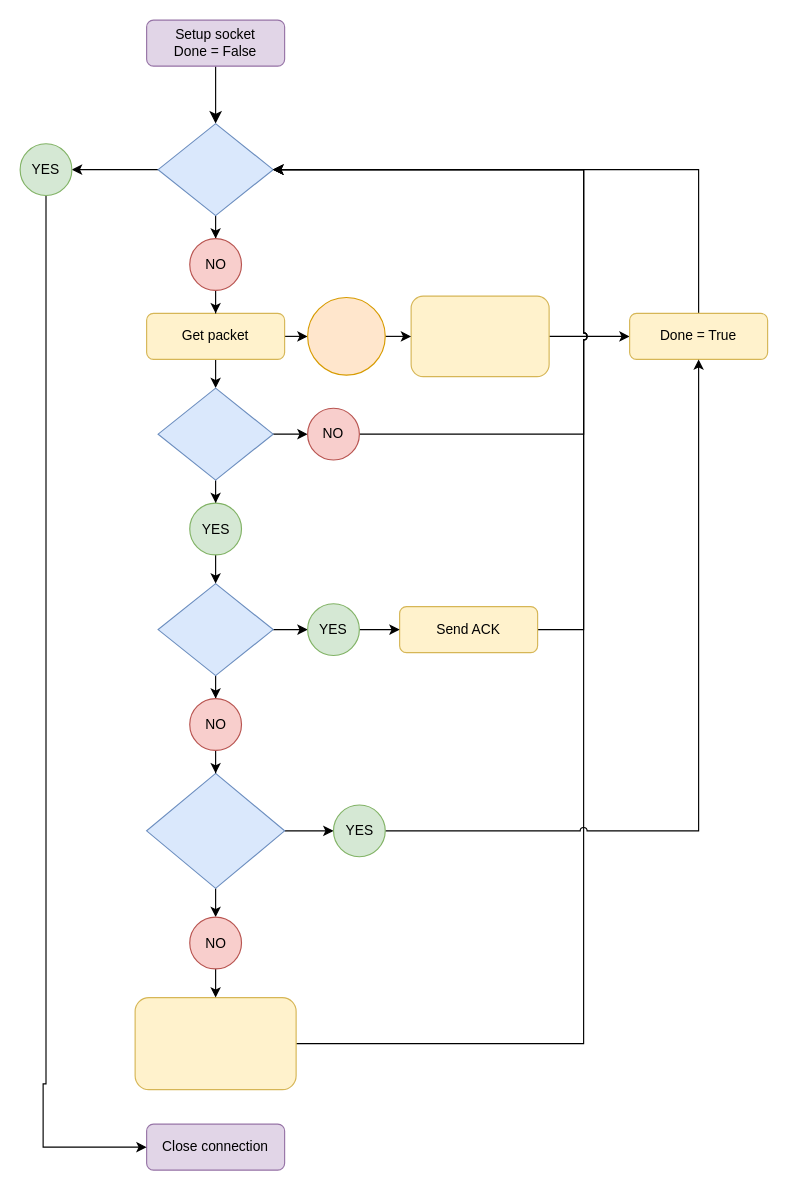
Image size: 788x1190. Some labels were removed from this diagram. The centre of each missing label's shape, as x and y in pixels:
Checksum good?: (215,433)
Correct sequence?: (215,629)
Done?: (215,169)
Got close connection message from client?: (215,830)
Got wrong sequence number. Send ACK for last received packet: (215,1043)
Tell client to close connection: (479,336)
TIMEOUT: (345,335)
